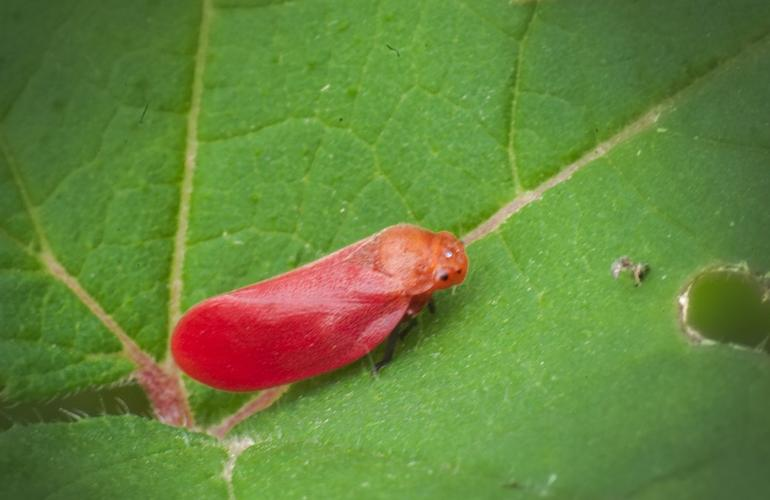Cicadellidae: (168, 224, 469, 394)
